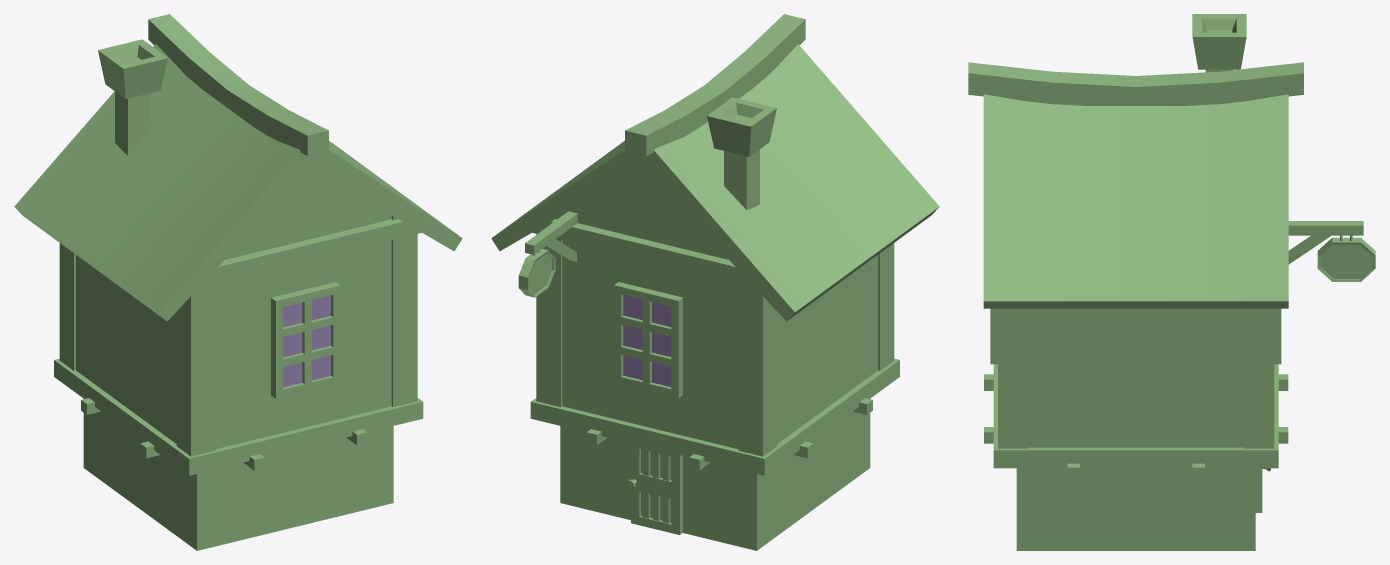
The model's file is CasaEstiloMedieval2.fbx.
The picture shows the model from 3 angles, left to right: view 1: azimuth 30°, elevation 25°; view 2: azimuth 150°, elevation 25°; view 3: azimuth 270°, elevation 25°; orthographic projection. The views are drawn at different scales.
Parts seen in each view (by area): view 1: polySurface77, polySurface51; view 2: polySurface77, polySurface51; view 3: polySurface77.
Part boxes in pixels (left/top/right/bottom): polySurface77: left=14, top=14, right=462, bottom=550; polySurface51: left=283, top=295, right=330, bottom=387; polySurface77: left=491, top=14, right=939, bottom=550; polySurface51: left=623, top=295, right=671, bottom=386; polySurface77: left=968, top=14, right=1375, bottom=550.
Bounding box in the file's own units: 8.23 × 10.84 × 9.07.
